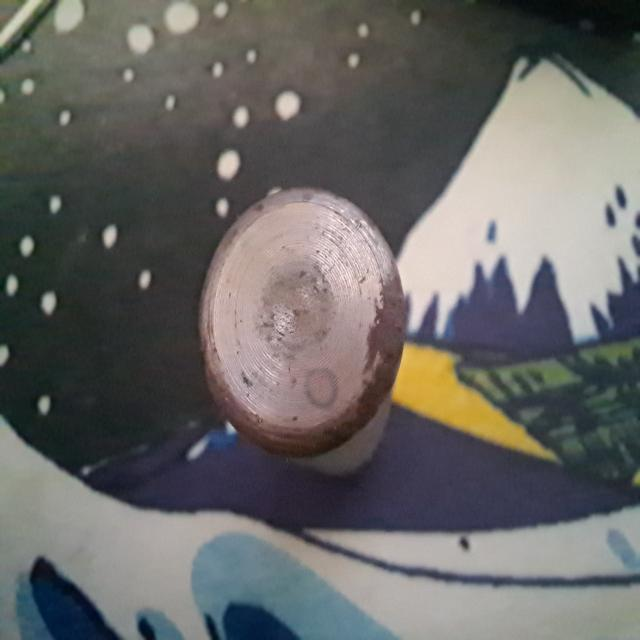defect: (302, 365, 342, 415)
planson: (194, 186, 407, 479)
